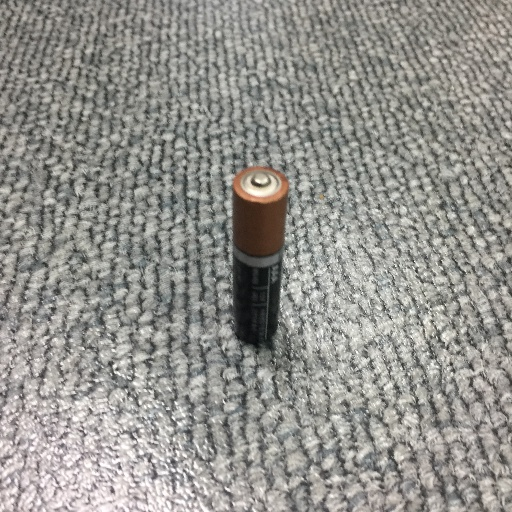Battery_0: (222, 155, 303, 355)
